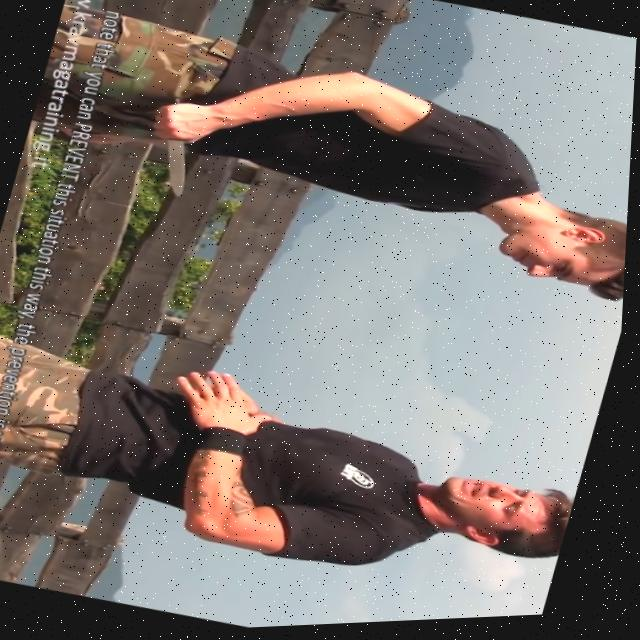knife: (144, 135, 207, 203)
